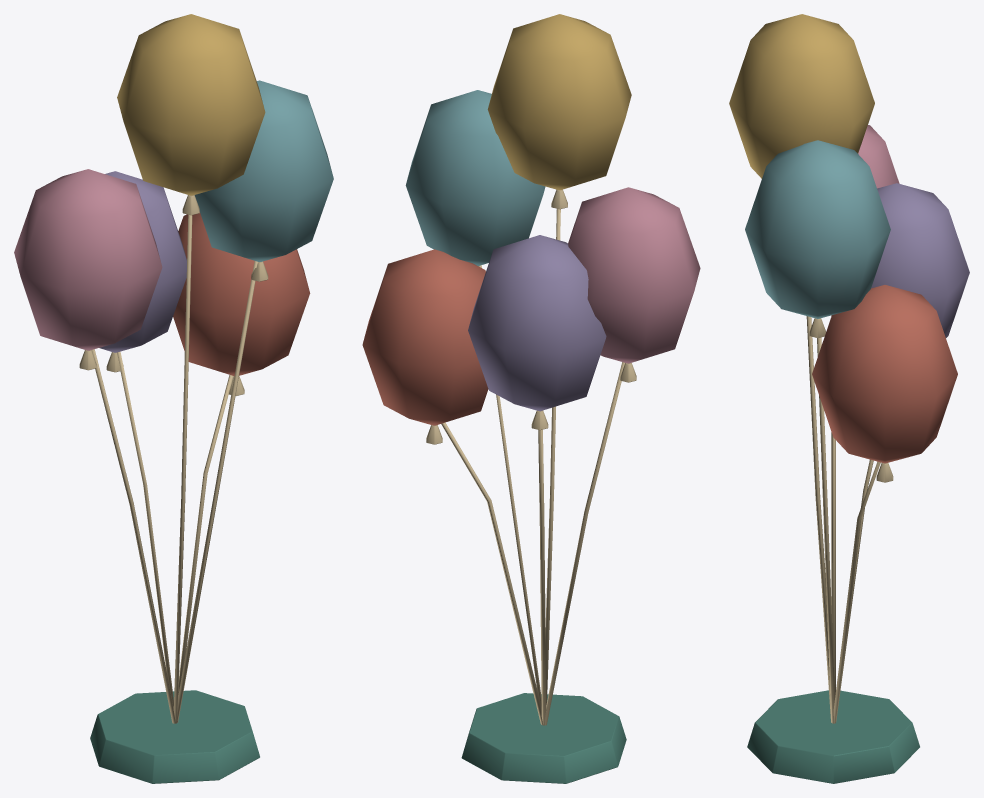
Rendered from birthday_balloons_low.glb.
3 renders of one model, left to right at view 1: azimuth 30°, elevation 25°; view 2: azimuth 150°, elevation 25°; view 3: azimuth 270°, elevation 25°, orthographic. The views are drawn at different scales.
Size of the model in its own units: 0.89 by 2.05 by 0.61.
